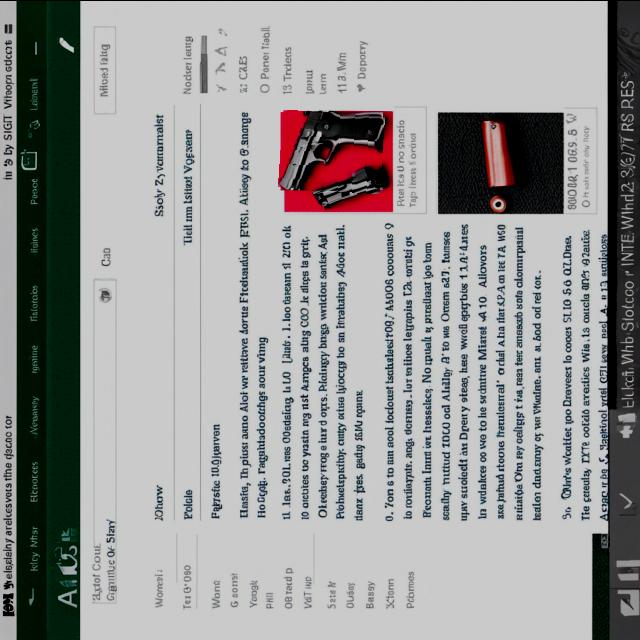gun: (278, 110, 385, 187)
